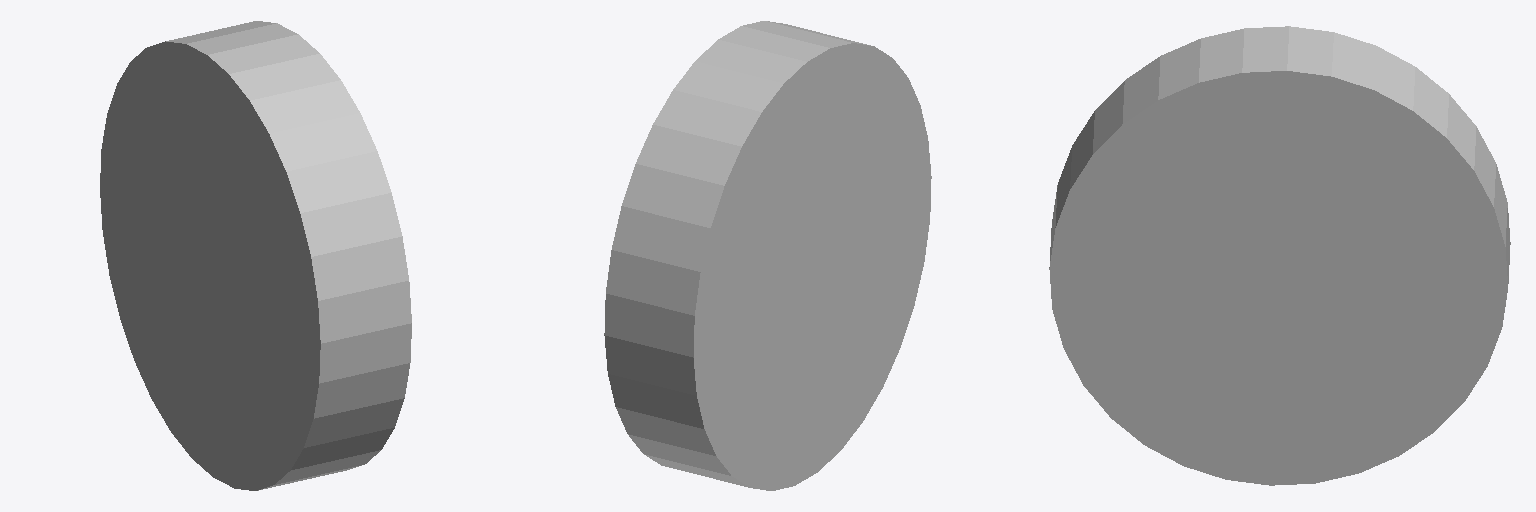
File: cartwheel.obj
The picture shows the model from 3 angles: view 1: azimuth 30°, elevation 25°; view 2: azimuth 150°, elevation 25°; view 3: azimuth 270°, elevation 25°; orthographic projection.
Parts seen in each view (by area): view 1: Cylinder; view 2: Cylinder; view 3: Cylinder.
Part boxes in pixels (x1,y1,x2,y2): Cylinder: (100,21,411,490); Cylinder: (604,21,931,490); Cylinder: (1049,26,1510,485).
Size of the model in its own units: 0.2903 by 1.17 by 1.17.